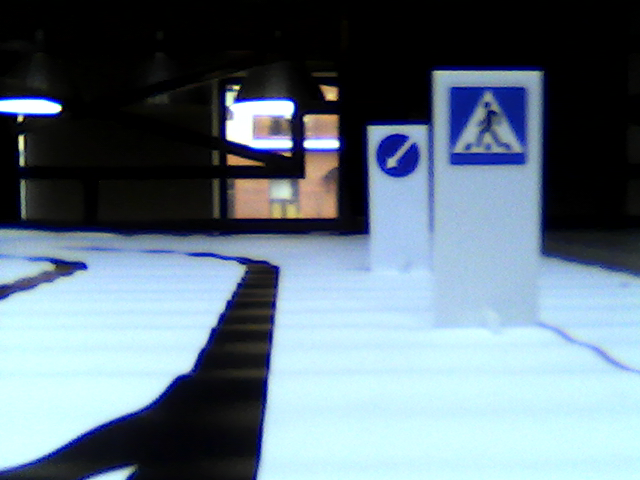pesh: (449, 84, 529, 164)
prep: (375, 133, 421, 177)
